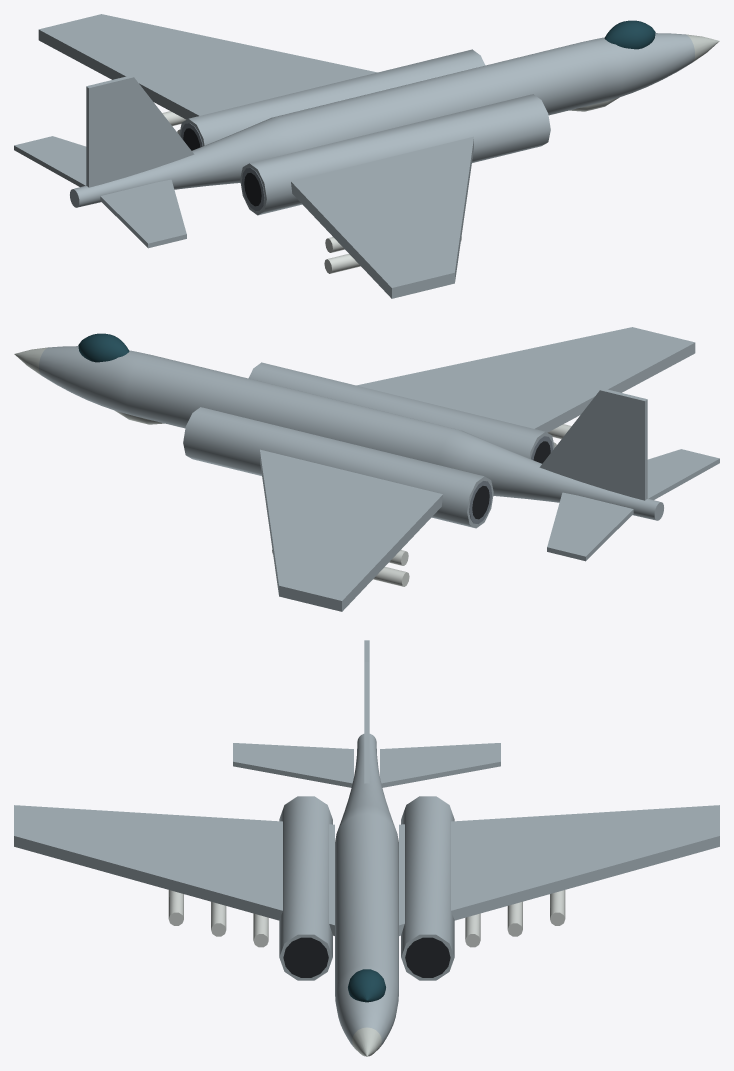
Rendered from pla_bomber_h6j.glb.
The picture shows the model from 3 angles, top to bottom: view 1: azimuth 30°, elevation 25°; view 2: azimuth 150°, elevation 25°; view 3: azimuth 270°, elevation 25°; orthographic projection.
Visible parts, largest first — view 1: naval_paint, glazing, missile_body, rubber, array_face, titanium; view 2: naval_paint, glazing, missile_body, rubber, array_face, titanium; view 3: naval_paint, missile_body, rubber, glazing, array_face.
Boxes of the visible parts, x1,y1,x2,y2 form: naval_paint: (14, 14, 694, 298); glazing: (604, 20, 655, 49); missile_body: (162, 111, 461, 273); rubber: (183, 128, 261, 206); array_face: (569, 34, 719, 111); titanium: (181, 123, 264, 211); naval_paint: (39, 327, 719, 611); glazing: (78, 333, 129, 362); missile_body: (272, 424, 571, 586); rubber: (472, 441, 550, 519); array_face: (14, 347, 164, 424); titanium: (469, 436, 552, 524); naval_paint: (14, 640, 719, 1046); missile_body: (168, 890, 565, 947); rubber: (283, 937, 450, 977); glazing: (348, 969, 385, 1002); array_face: (352, 1027, 381, 1056).
Size of the model in its own units: 10 by 2.24 by 9.48.
